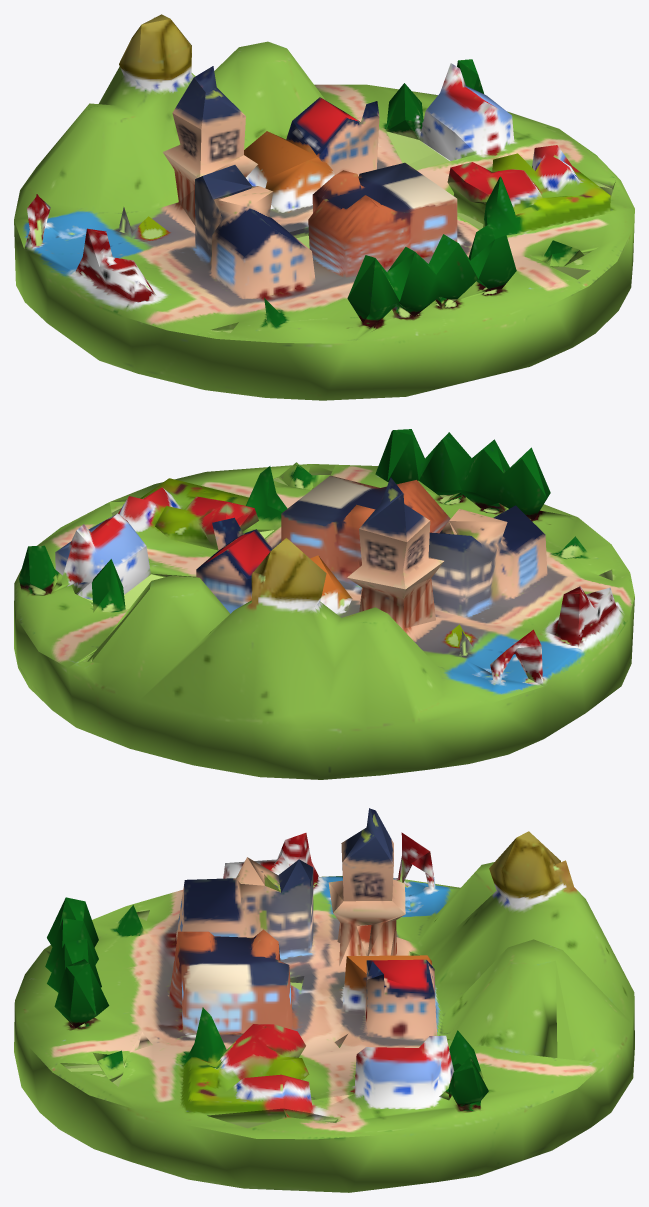
The model's file is tinytown-town-diorama.glb.
3 renders of one model, top to bottom at view 1: azimuth 30°, elevation 25°; view 2: azimuth 150°, elevation 25°; view 3: azimuth 270°, elevation 25°, orthographic.
Visible parts, largest first — view 1: geometry_0.001; view 2: geometry_0.001; view 3: geometry_0.001.
Boxes of the visible parts, bbox=[...] form: geometry_0.001: bbox=[14, 14, 634, 400]; geometry_0.001: bbox=[14, 429, 634, 779]; geometry_0.001: bbox=[14, 808, 634, 1192].
Bounding box in the file's own units: 0.9986 × 0.3734 × 0.9981.
Materials: 1 (1 with a texture image).
